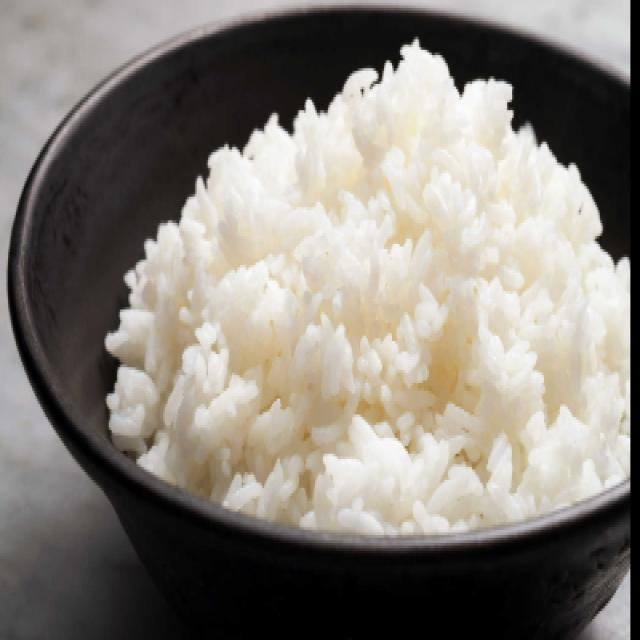rice: (158, 54, 608, 534)
